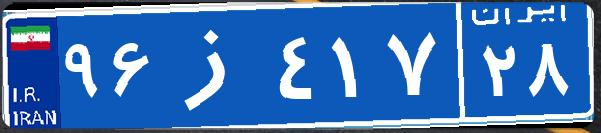1: (330, 28, 385, 110)
2: (475, 38, 525, 113)
4: (273, 28, 330, 110)
6: (110, 28, 158, 105)
7: (385, 28, 445, 110)
8: (525, 38, 570, 115)
9: (57, 26, 110, 107)
ز: (158, 15, 273, 115)
